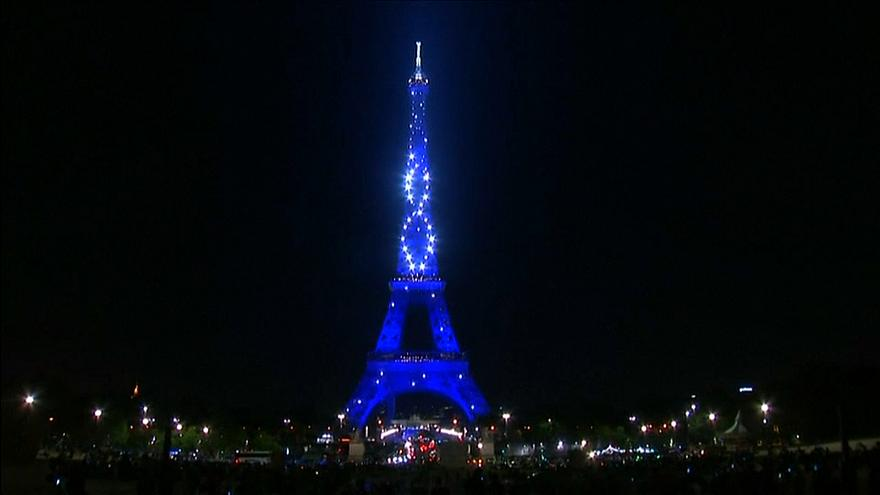eiffel tower: (317, 30, 517, 449)
